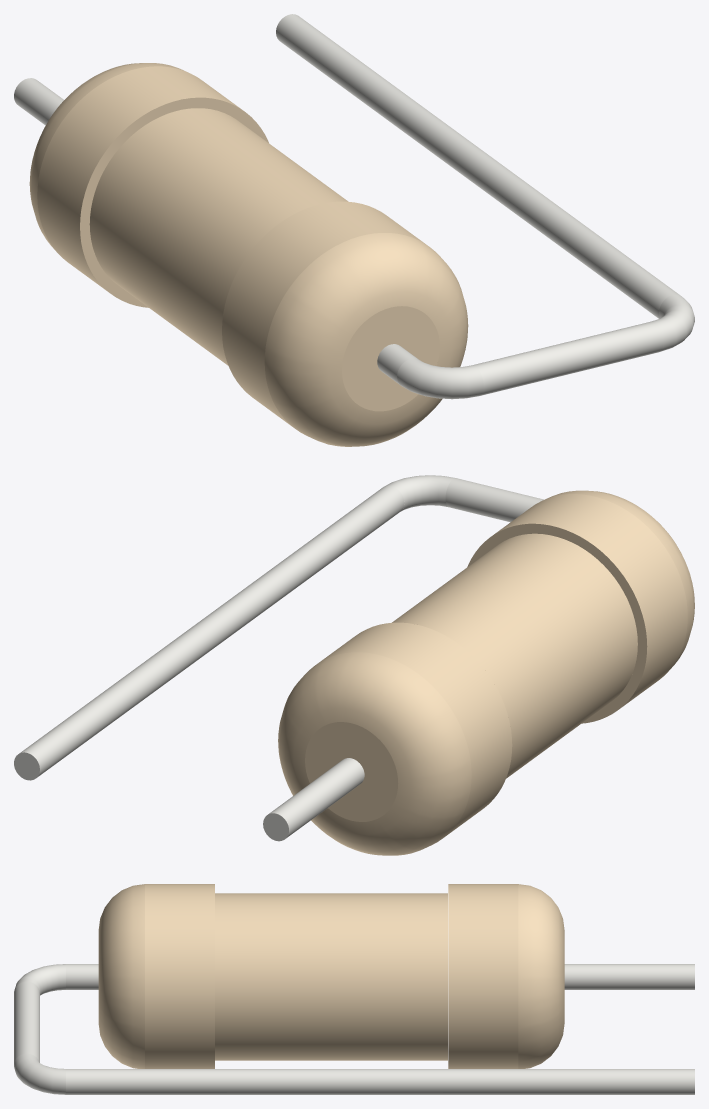
File: R_Axial_DIN0614_L14.3mm_D5.7mm_P7.62mm_Vertical.glb
3 views of the same model, one above another, from view 1: azimuth 30°, elevation 25°; view 2: azimuth 150°, elevation 25°; view 3: azimuth 270°, elevation 25° (orthographic). The views are drawn at different scales.
Visible parts, largest first — view 1: Shape_IndexedFaceSet.004, Shape_IndexedFaceSet.009, Shape_IndexedFaceSet.015, Shape_IndexedFaceSet.008, Shape_IndexedFaceSet, Shape_IndexedFaceSet.010, Shape_IndexedFaceSet.013, Shape_IndexedFaceSet.002, Shape_IndexedFaceSet.012, Shape_IndexedFaceSet.001, Shape_IndexedFaceSet.014, Shape_IndexedFaceSet.005 (+1 smaller); view 2: Shape_IndexedFaceSet.004, Shape_IndexedFaceSet.001, Shape_IndexedFaceSet.015, Shape_IndexedFaceSet, Shape_IndexedFaceSet.008, Shape_IndexedFaceSet.003, Shape_IndexedFaceSet.006, Shape_IndexedFaceSet.005, Shape_IndexedFaceSet.013, Shape_IndexedFaceSet.009, Shape_IndexedFaceSet.014, Shape_IndexedFaceSet.016; view 3: Shape_IndexedFaceSet.004, Shape_IndexedFaceSet.015, Shape_IndexedFaceSet, Shape_IndexedFaceSet.008, Shape_IndexedFaceSet.001, Shape_IndexedFaceSet.009, Shape_IndexedFaceSet.005, Shape_IndexedFaceSet.013, Shape_IndexedFaceSet.014, Shape_IndexedFaceSet.012, Shape_IndexedFaceSet.011.
Boxes of the visible parts, x1=… form: Shape_IndexedFaceSet.004: x1=89, y1=108, x2=347, y2=365; Shape_IndexedFaceSet.009: x1=264, y1=233, x2=468, y2=446; Shape_IndexedFaceSet.015: x1=276, y1=14, x2=680, y2=318; Shape_IndexedFaceSet.008: x1=222, y1=201, x2=424, y2=427; Shape_IndexedFaceSet: x1=37, y1=66, x2=240, y2=291; Shape_IndexedFaceSet.010: x1=342, y1=306, x2=439, y2=411; Shape_IndexedFaceSet.013: x1=473, y1=321, x2=663, y2=395; Shape_IndexedFaceSet.002: x1=80, y1=97, x2=268, y2=307; Shape_IndexedFaceSet.012: x1=397, y1=358, x2=483, y2=399; Shape_IndexedFaceSet.001: x1=29, y1=63, x2=185, y2=250; Shape_IndexedFaceSet.014: x1=651, y1=294, x2=694, y2=351; Shape_IndexedFaceSet.005: x1=14, y1=78, x2=63, y2=125; Shape_IndexedFaceSet.004: x1=392, y1=533, x2=637, y2=778; Shape_IndexedFaceSet.001: x1=278, y1=652, x2=471, y2=855; Shape_IndexedFaceSet.015: x1=19, y1=485, x2=404, y2=777; Shape_IndexedFaceSet: x1=319, y1=622, x2=512, y2=837; Shape_IndexedFaceSet.008: x1=494, y1=494, x2=687, y2=707; Shape_IndexedFaceSet.003: x1=305, y1=722, x2=398, y2=821; Shape_IndexedFaceSet.006: x1=467, y1=523, x2=647, y2=723; Shape_IndexedFaceSet.005: x1=268, y1=758, x2=364, y2=838; Shape_IndexedFaceSet.013: x1=445, y1=478, x2=543, y2=522; Shape_IndexedFaceSet.009: x1=545, y1=490, x2=694, y2=668; Shape_IndexedFaceSet.014: x1=384, y1=475, x2=455, y2=511; Shape_IndexedFaceSet.016: x1=14, y1=752, x2=39, y2=780; Shape_IndexedFaceSet.004: x1=215, y1=893, x2=447, y2=1060; Shape_IndexedFaceSet.015: x1=66, y1=1069, x2=694, y2=1094; Shape_IndexedFaceSet: x1=448, y1=884, x2=518, y2=1068; Shape_IndexedFaceSet.008: x1=145, y1=884, x2=214, y2=1068; Shape_IndexedFaceSet.001: x1=518, y1=884, x2=564, y2=1068; Shape_IndexedFaceSet.009: x1=98, y1=884, x2=144, y2=1068; Shape_IndexedFaceSet.005: x1=564, y1=964, x2=694, y2=989; Shape_IndexedFaceSet.013: x1=14, y1=981, x2=39, y2=1062; Shape_IndexedFaceSet.014: x1=14, y1=1053, x2=65, y2=1094; Shape_IndexedFaceSet.012: x1=15, y1=964, x2=65, y2=995; Shape_IndexedFaceSet.011: x1=66, y1=964, x2=98, y2=989.
Size of the model in its own units: 4.28 by 2.24 by 8.23.
